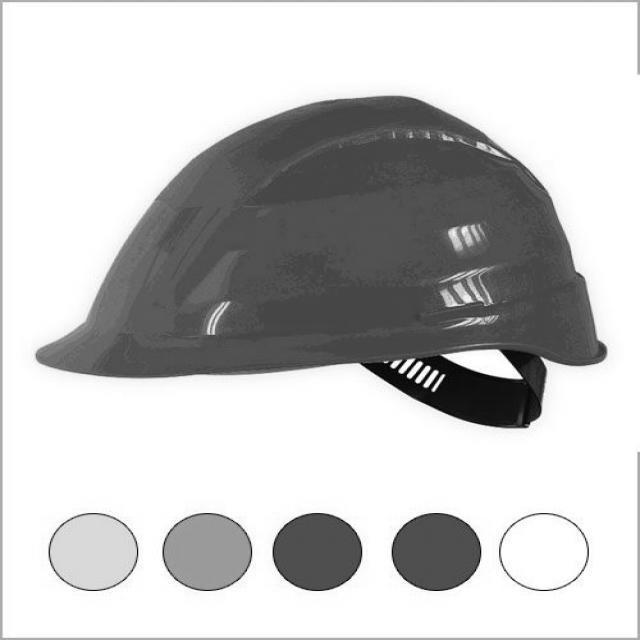safety_helmet: (35, 96, 609, 429)
